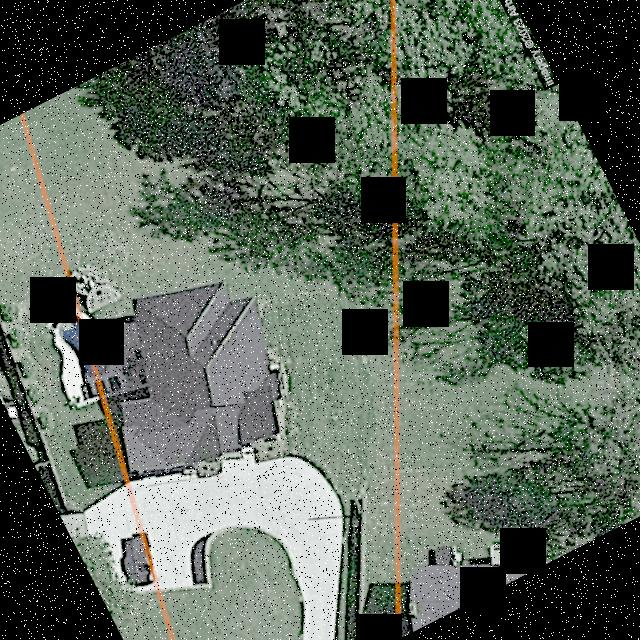Driveway: (131, 453, 343, 640)
House: (118, 277, 286, 471)
